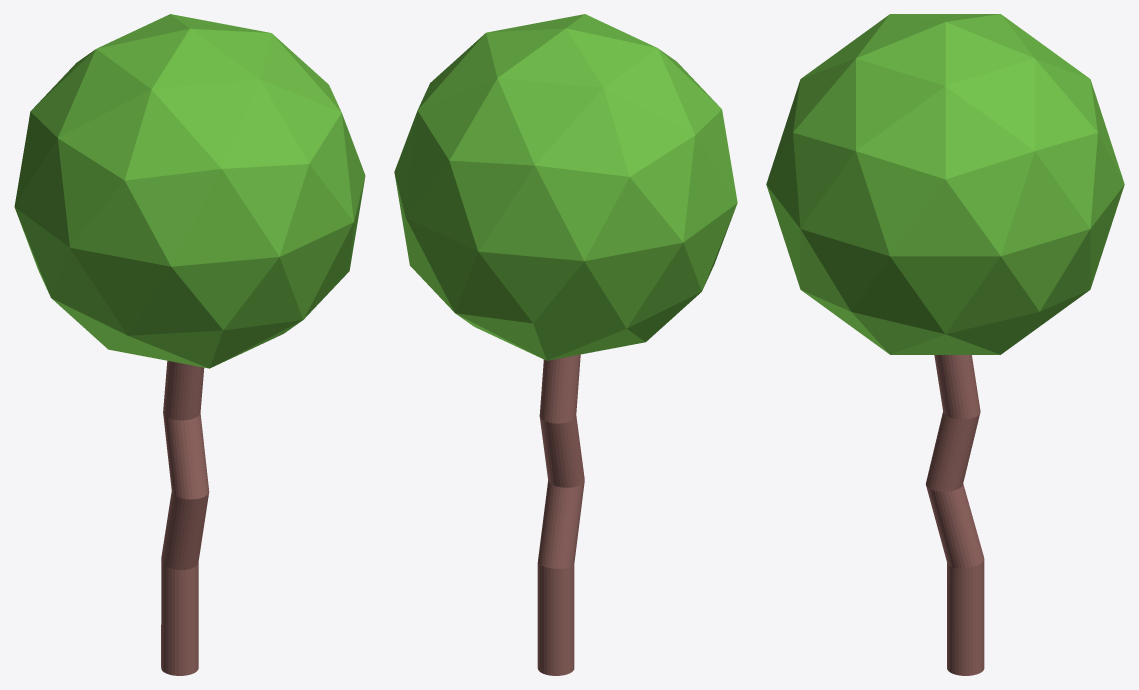
Rendered from tree-type-A.fbx.
3 views of the same model, side by side, from view 1: azimuth 30°, elevation 25°; view 2: azimuth 150°, elevation 25°; view 3: azimuth 270°, elevation 25° (orthographic). The views are drawn at different scales.
Visible parts, largest first — view 1: 1. tree-type-A; view 2: 1. tree-type-A; view 3: 1. tree-type-A.
Boxes of the visible parts, x1,y1,x2,y2 form: 1. tree-type-A: (14,14,365,675); 1. tree-type-A: (394,14,737,675); 1. tree-type-A: (766,14,1124,675).
Bounding box in the file's own units: 2.11 × 4.42 × 2.22.
